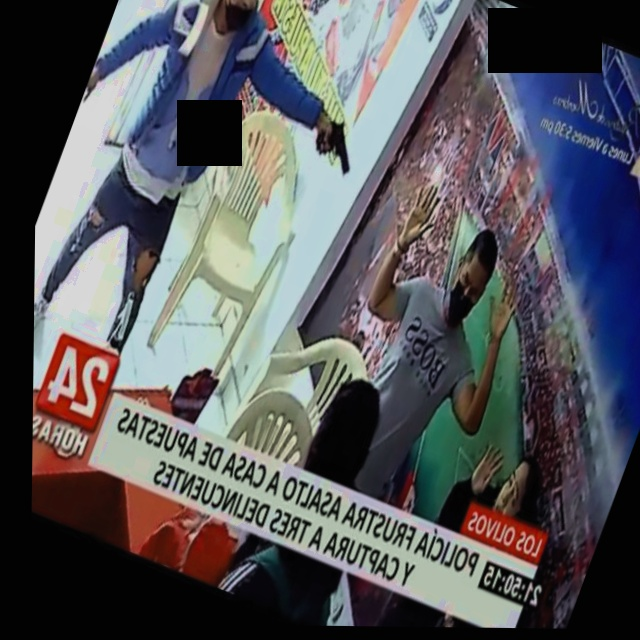gun: (296, 93, 378, 200)
